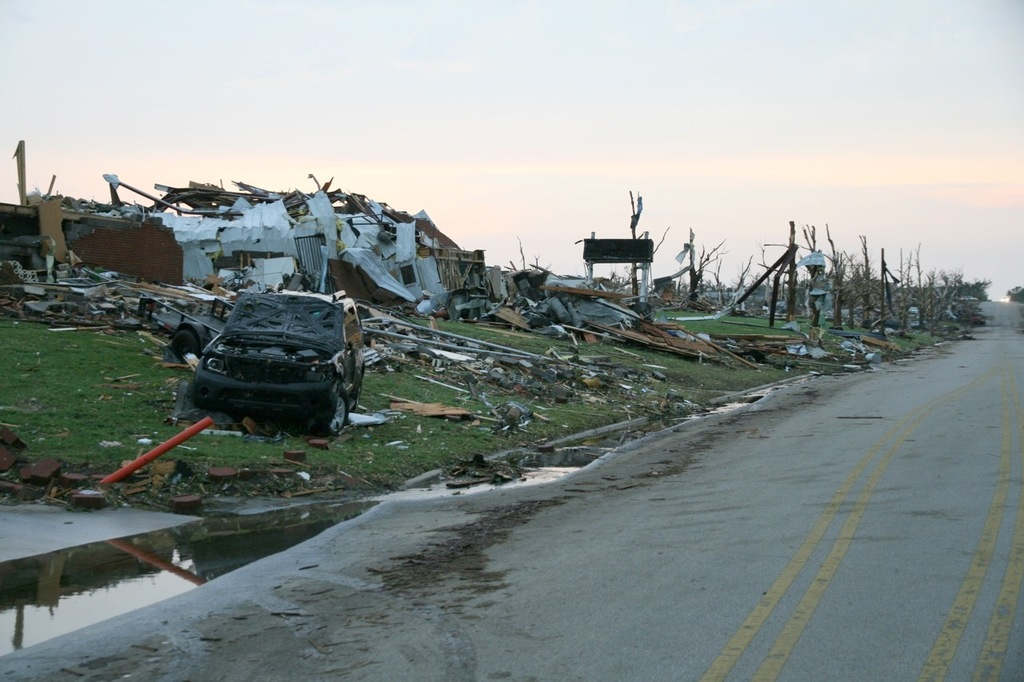Car: (157, 279, 345, 442)
